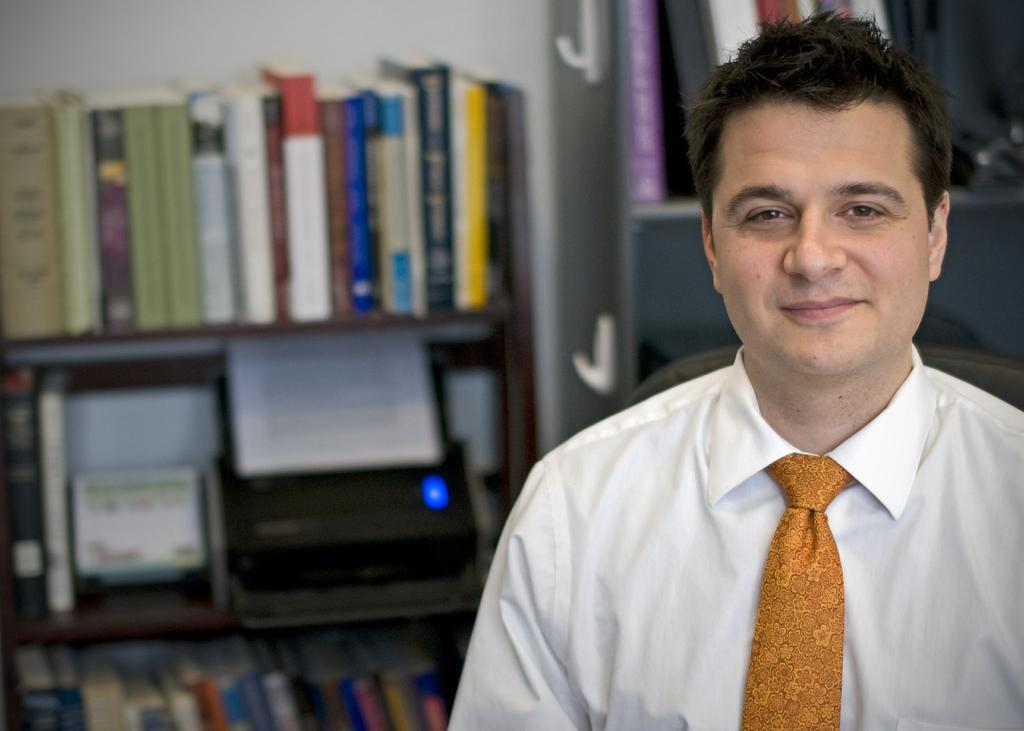Book: (0, 42, 499, 343), (618, 0, 1023, 205), (1, 643, 467, 730), (0, 354, 81, 617)
